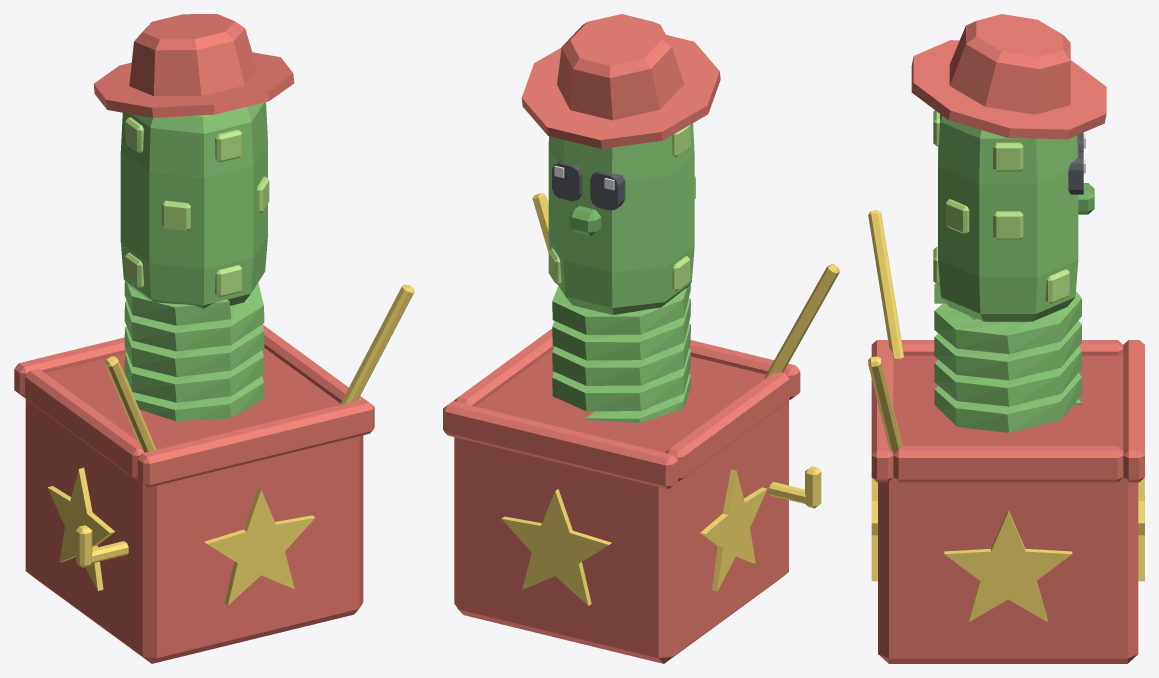
The model's file is ToylandJackInTheBoxCucumber.fbx.
3 views of the same model, side by side, from view 1: azimuth 30°, elevation 25°; view 2: azimuth 150°, elevation 25°; view 3: azimuth 270°, elevation 25° (orthographic). The views are drawn at different scales.
Visible parts, largest first — view 1: ToylandJackInTheBoxCucumber.Box, ToylandJackInTheBoxCucumber.Head, ToylandJackInTheBoxCucumber.Yellow, ToylandJackInTheBoxCucumber.Opening, ToylandJackInTheBoxCucumber.HeadStuds; view 2: ToylandJackInTheBoxCucumber.Box, ToylandJackInTheBoxCucumber.Head, ToylandJackInTheBoxCucumber.Yellow, ToylandJackInTheBoxCucumber.Opening, ToylandJackInTheBoxCucumber.Eyes, ToylandJackInTheBoxCucumber.HeadStuds, ToylandJackInTheBoxCucumber.Nose; view 3: ToylandJackInTheBoxCucumber.Box, ToylandJackInTheBoxCucumber.Head, ToylandJackInTheBoxCucumber.Opening, ToylandJackInTheBoxCucumber.Yellow, ToylandJackInTheBoxCucumber.HeadStuds, ToylandJackInTheBoxCucumber.Eyes, ToylandJackInTheBoxCucumber.Nose.
Boxes of the visible parts, left/top/right/bottom form: ToylandJackInTheBoxCucumber.Box: left=14, top=14, right=374, bottom=663; ToylandJackInTheBoxCucumber.Head: left=120, top=102, right=267, bottom=420; ToylandJackInTheBoxCucumber.Yellow: left=47, top=284, right=414, bottom=605; ToylandJackInTheBoxCucumber.Opening: left=45, top=348, right=340, bottom=449; ToylandJackInTheBoxCucumber.HeadStuds: left=125, top=117, right=269, bottom=297; ToylandJackInTheBoxCucumber.Box: left=443, top=14, right=800, bottom=663; ToylandJackInTheBoxCucumber.Head: left=548, top=123, right=694, bottom=422; ToylandJackInTheBoxCucumber.Yellow: left=502, top=193, right=839, bottom=605; ToylandJackInTheBoxCucumber.Opening: left=475, top=350, right=765, bottom=452; ToylandJackInTheBoxCucumber.Eyes: left=552, top=160, right=625, bottom=210; ToylandJackInTheBoxCucumber.HeadStuds: left=548, top=125, right=695, bottom=291; ToylandJackInTheBoxCucumber.Nose: left=569, top=206, right=601, bottom=235; ToylandJackInTheBoxCucumber.Box: left=871, top=14, right=1144, bottom=663; ToylandJackInTheBoxCucumber.Head: left=934, top=114, right=1081, bottom=432; ToylandJackInTheBoxCucumber.Opening: left=893, top=354, right=1123, bottom=450; ToylandJackInTheBoxCucumber.Yellow: left=868, top=210, right=1144, bottom=621; ToylandJackInTheBoxCucumber.HeadStuds: left=933, top=110, right=1069, bottom=303; ToylandJackInTheBoxCucumber.Eyes: left=1068, top=133, right=1083, bottom=194; ToylandJackInTheBoxCucumber.Nose: left=1078, top=183, right=1094, bottom=214.
Size of the model in its own units: 3.39 by 5.95 by 2.55.
